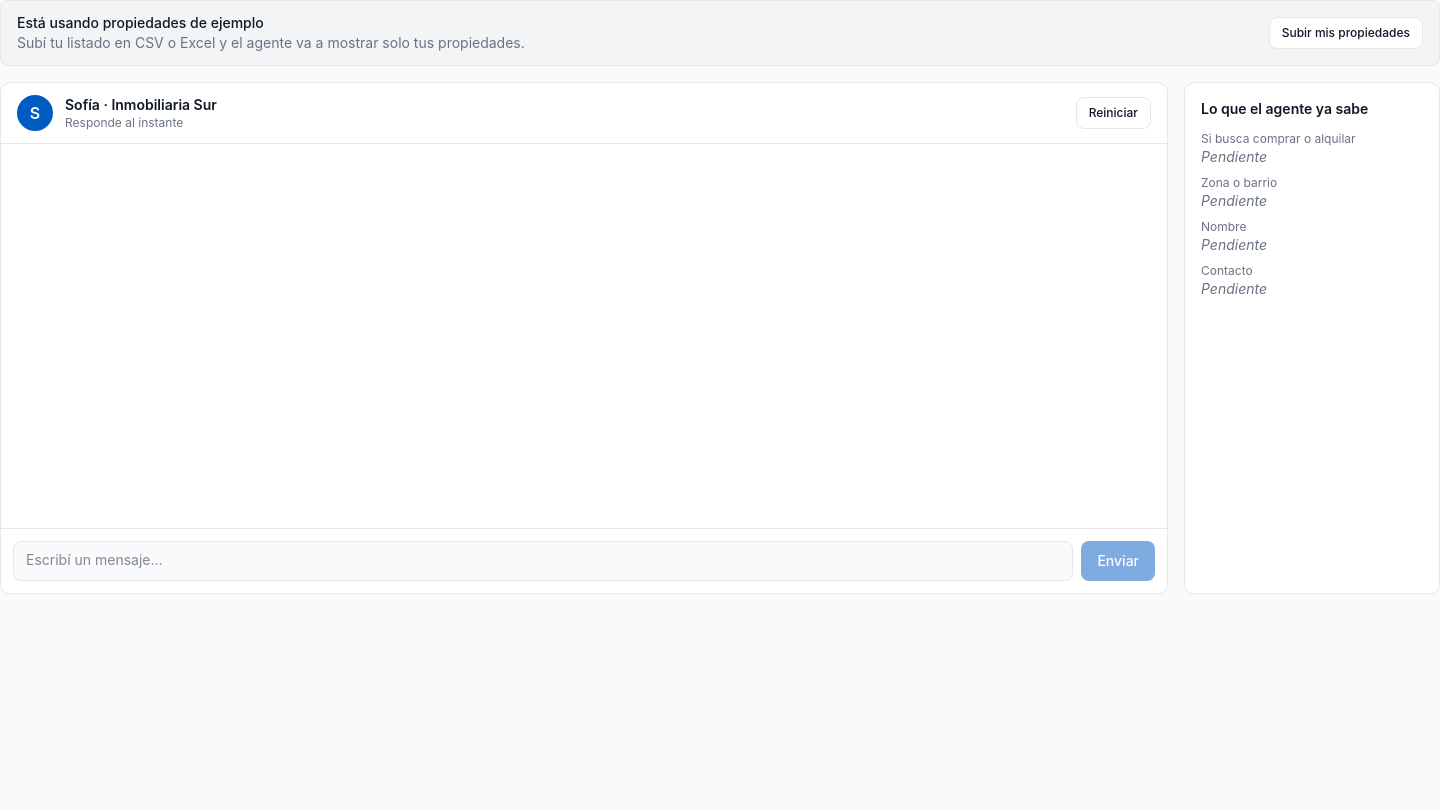
Test: SimulatorView › shows the daily limit without a resend button
Type "Hola" into the text box labelled "mensaje" at (543, 561), box x1=13 y1=541 x2=1073 y2=581
Then press Enter
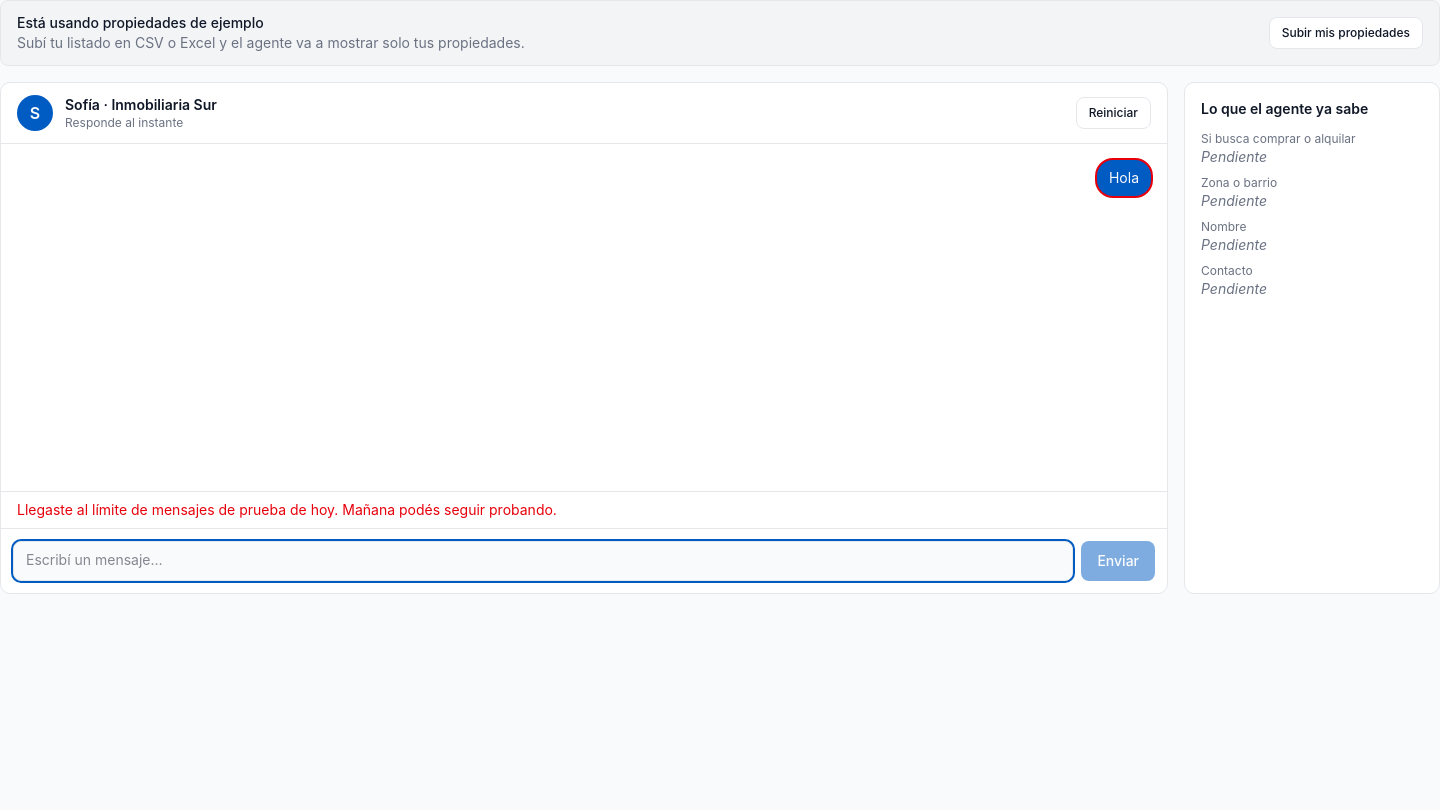
Expected: the button "Reintentar" is not shown
Expected: the text "Llegaste al límite de mensajes de prueba de hoy. Mañana podés seguir probando." is shown, x1=17 y1=501 x2=557 y2=518
